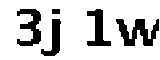1: (84, 5, 112, 50)
3: (10, 5, 43, 47)
j: (39, 2, 68, 60)
w: (112, 12, 160, 49)
